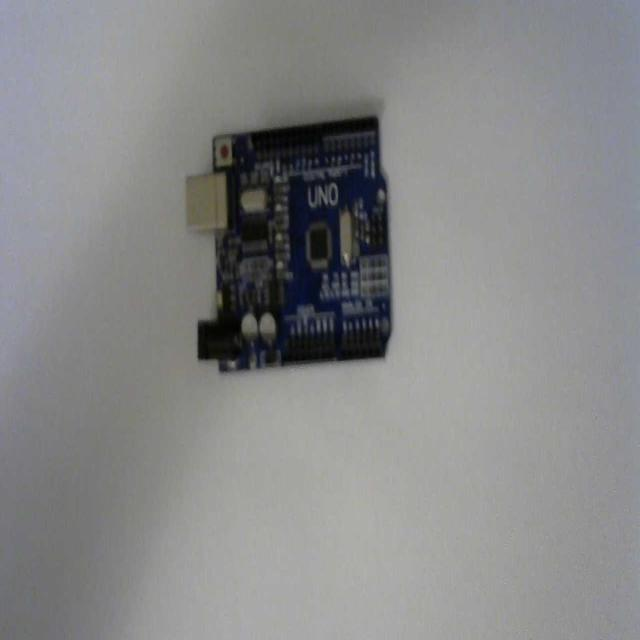arduino: (183, 114, 394, 370)
